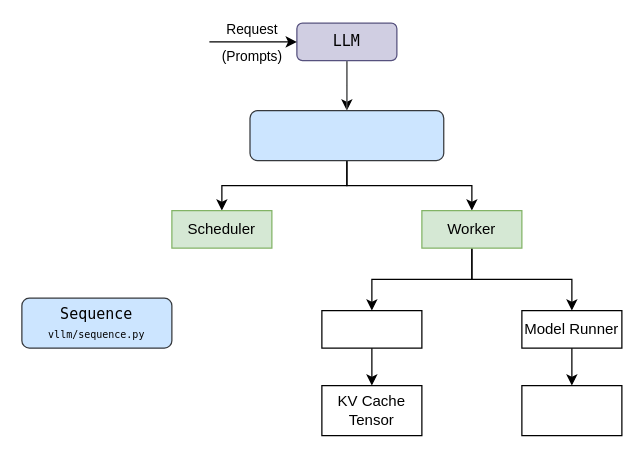
This 644x459 diagram has some shape labels left out. Here are the shapes that lost their labels. From the top down, the centre of each, then its label:
At (346,135): "LLMEngine vllm/engine/llm_engine.py".
At (371,328): "Cache Engine".
At (571,410): "Model".
